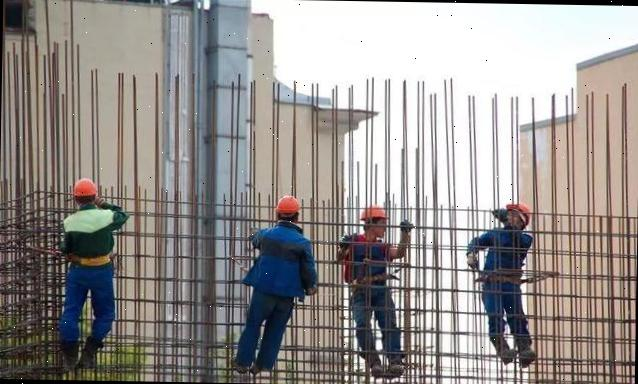helmet: (273, 194, 302, 219), (70, 176, 98, 200), (504, 202, 532, 224), (356, 202, 390, 220)
no_wear: (249, 224, 312, 302), (62, 204, 115, 266), (339, 234, 389, 293)
